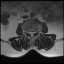CCS_normal: (31, 29, 33, 38)
LFS_stenosis: (34, 29, 36, 34)
LLS_normal: (32, 29, 34, 37)
RFS_normal: (27, 29, 29, 35)
RLS_normal: (29, 29, 31, 36)
